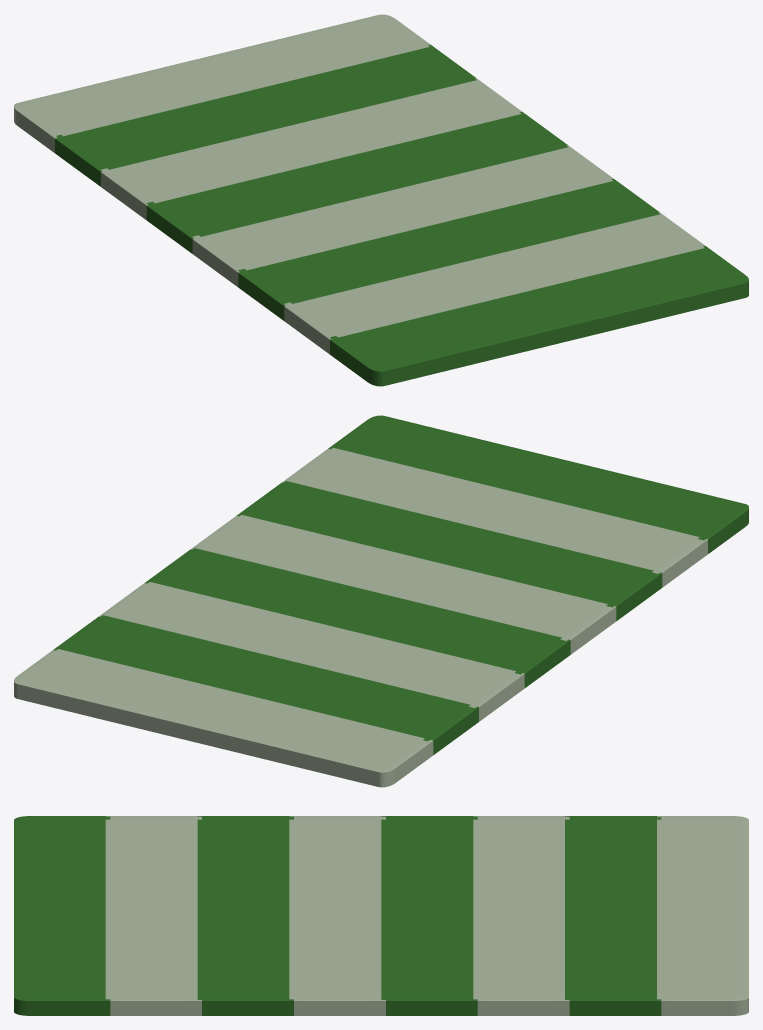
File: alfombra.fbx
3 views of the same model, one above another, from view 1: azimuth 30°, elevation 25°; view 2: azimuth 150°, elevation 25°; view 3: azimuth 270°, elevation 25° (orthographic).
Parts seen in each view (by area): view 1: Cubo.026; view 2: Cubo.026; view 3: Cubo.026.
Boxes of the visible parts, x1,y1,x2,y2 form: Cubo.026: (14, 14, 748, 386); Cubo.026: (14, 415, 748, 787); Cubo.026: (14, 816, 748, 1015).
Bounding box in the file's own units: 436 × 17.13 × 733.
